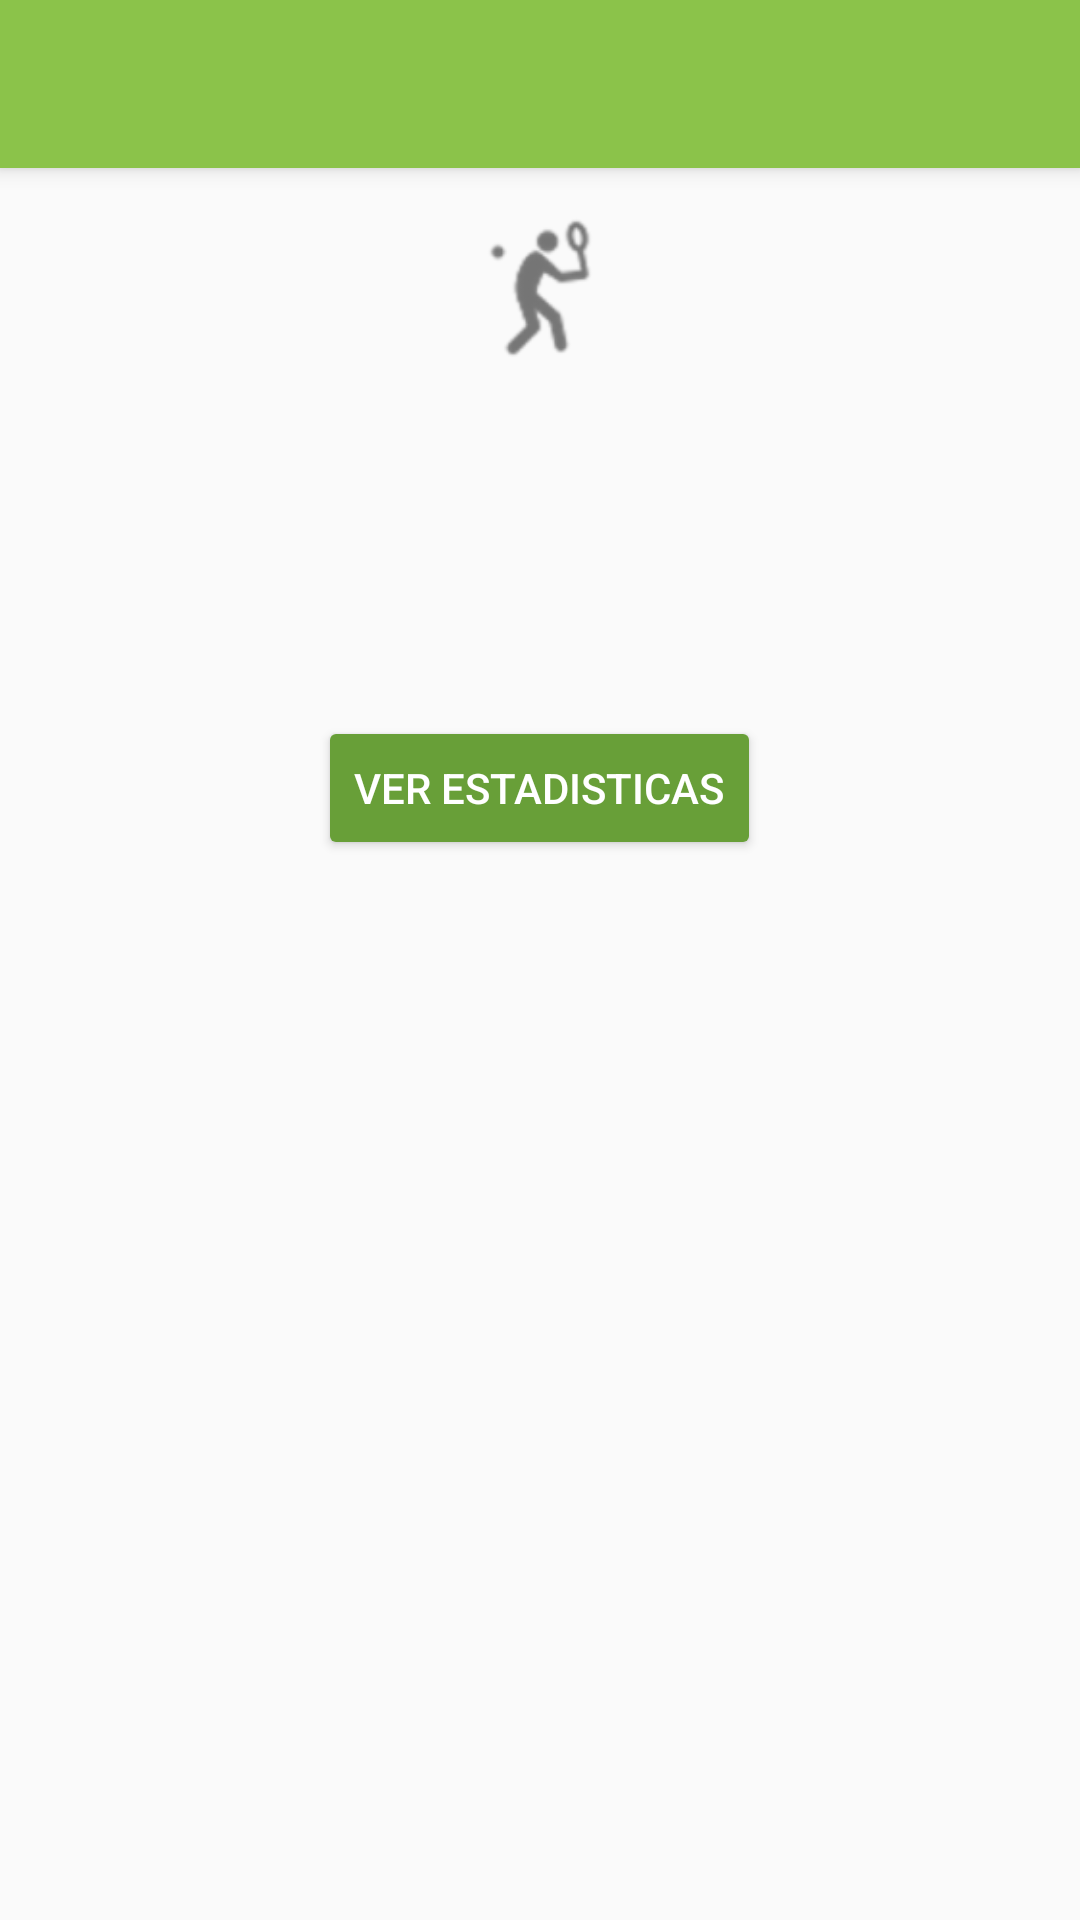

Screen size 1080 x 1920. Icon name, then its box in pixels as (x1=x1, y1=y1, x2=x2, y2=y2):
tennis player: (x1=491, y1=221, x2=590, y2=355)
